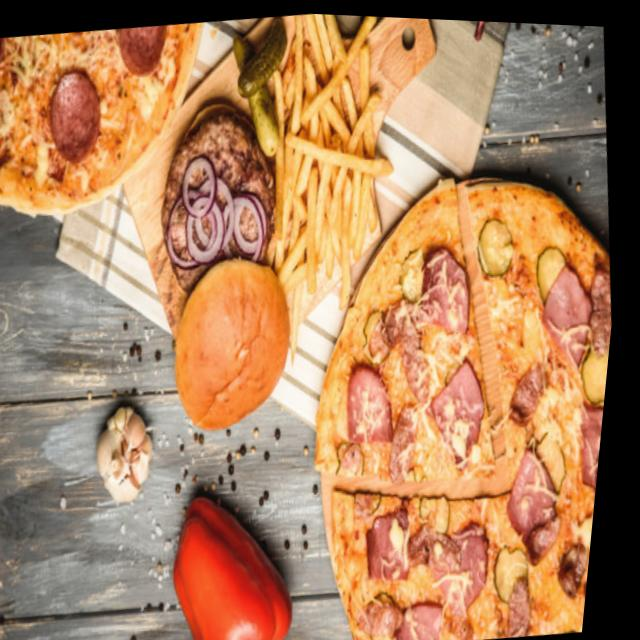burger: (133, 85, 326, 436)
pizza: (272, 142, 630, 640), (0, 12, 226, 236)
